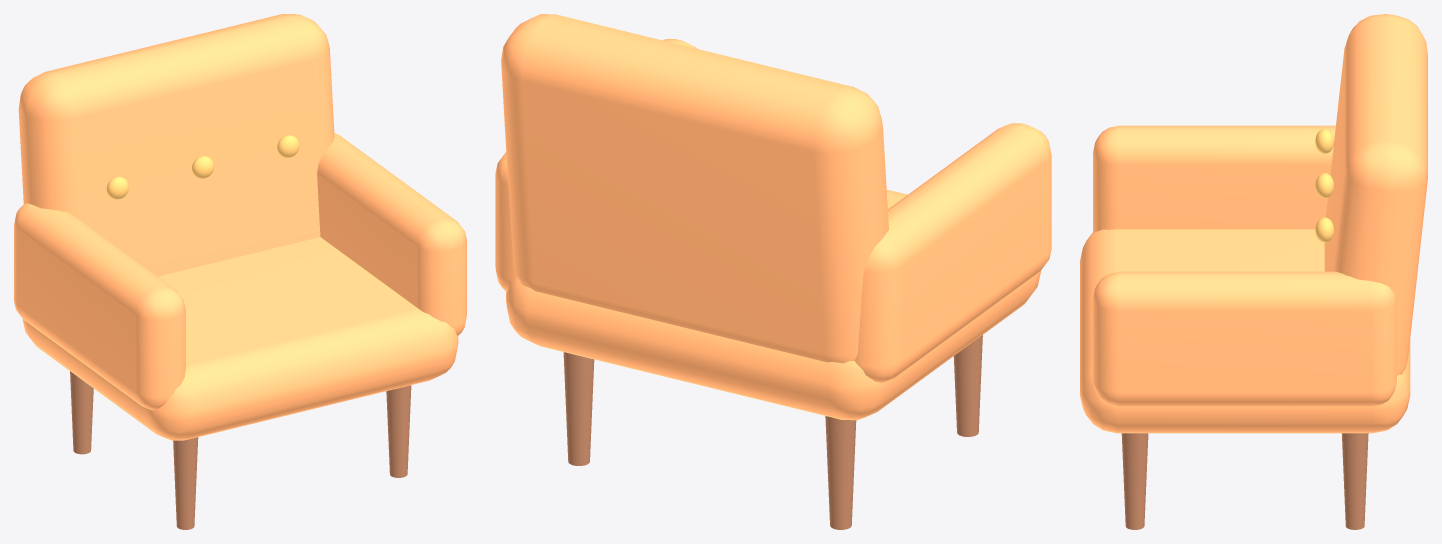
The model's file is tangerine_club.glb.
The picture shows the model from 3 angles, left to right: view 1: azimuth 30°, elevation 25°; view 2: azimuth 150°, elevation 25°; view 3: azimuth 270°, elevation 25°; orthographic projection. The views are drawn at different scales.
Parts seen in each view (by area): view 1: tangerine_club; view 2: tangerine_club; view 3: tangerine_club.
Boxes of the visible parts, x1=… form: tangerine_club: x1=14, y1=14, x2=466, y2=529; tangerine_club: x1=495, y1=14, x2=1051, y2=529; tangerine_club: x1=1080, y1=14, x2=1427, y2=529.
Size of the model in its own units: 0.77 by 0.8245 by 0.6639.
